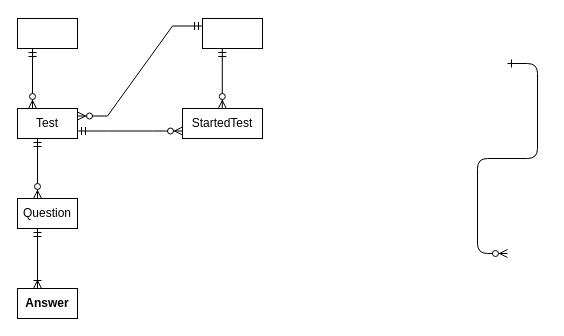
The diagram is 564 pixels wide and 336 high, and some of its shapes have lost their labels. The shapes that lost their labels are listed below. From the top down, each one's box as (x1, y1, x2, y2) in pixels, then its label:
(16, 18, 78, 48): Category
(202, 18, 262, 48): User
